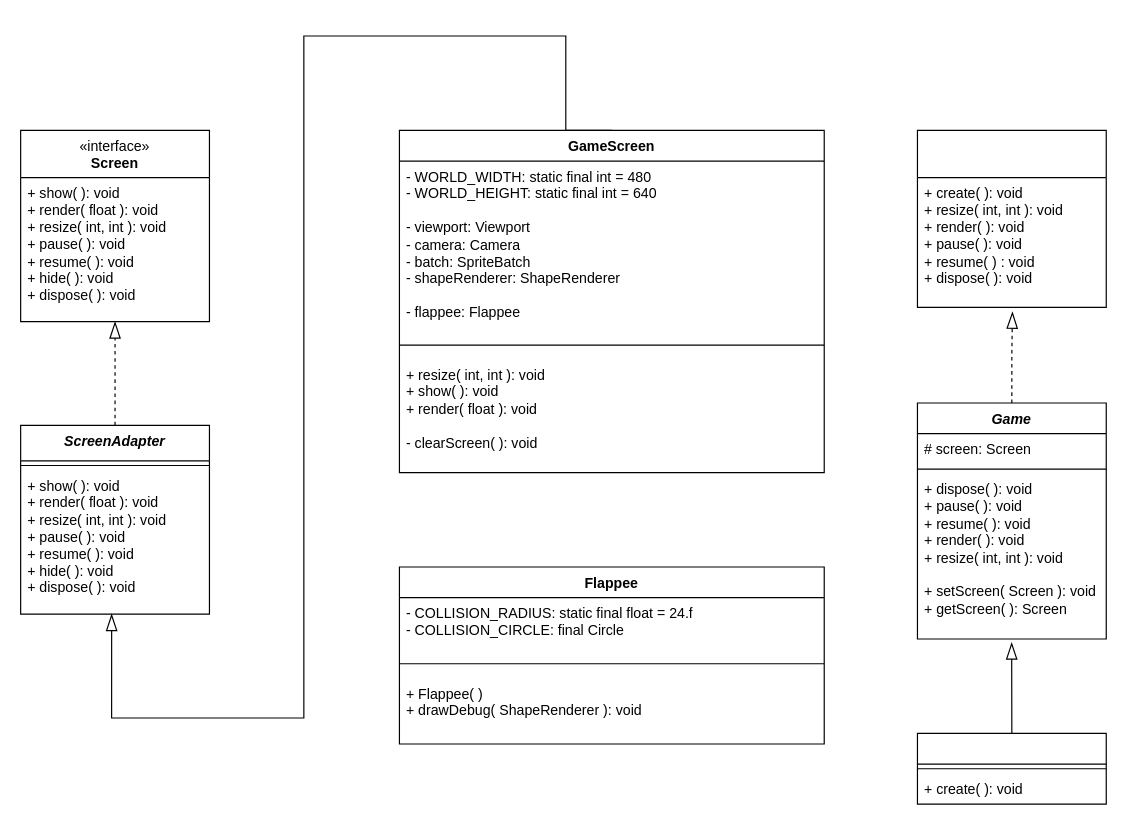
The diagram is 1127 pixels wide and 828 high, and some of its shapes have lost their labels. The shapes that lost their labels are listed below. From the top down, each one's box as (x1, y1, x2, y2) in pixels, then its label:
(916, 129, 1106, 307): <<interface>> ApplicationListener
(916, 732, 1106, 804): FlappeeBeeGame
